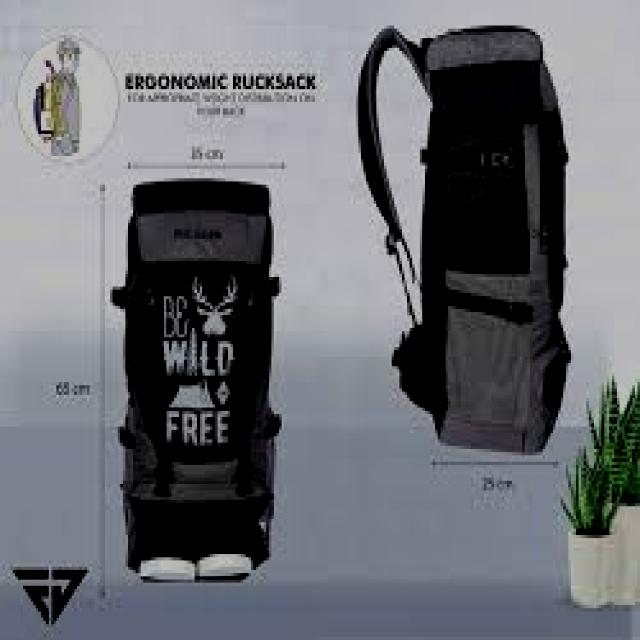backpack: (357, 24, 572, 457), (111, 177, 283, 581)
